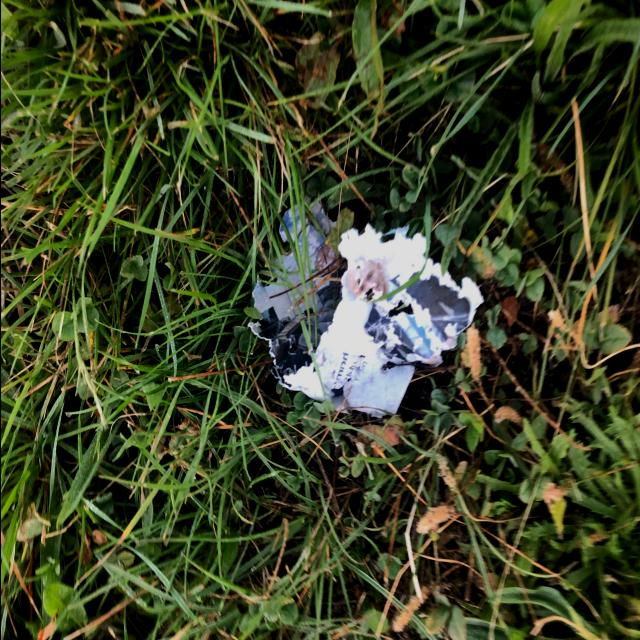Plastic film: (249, 196, 483, 418)
